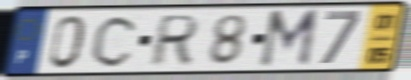0: (48, 14, 89, 70)
7: (317, 9, 366, 68)
8: (207, 13, 250, 67)
C: (88, 13, 141, 69)
M: (256, 7, 322, 71)
R: (146, 13, 203, 69)
